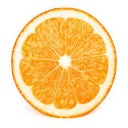orange: (9, 7, 118, 119)
